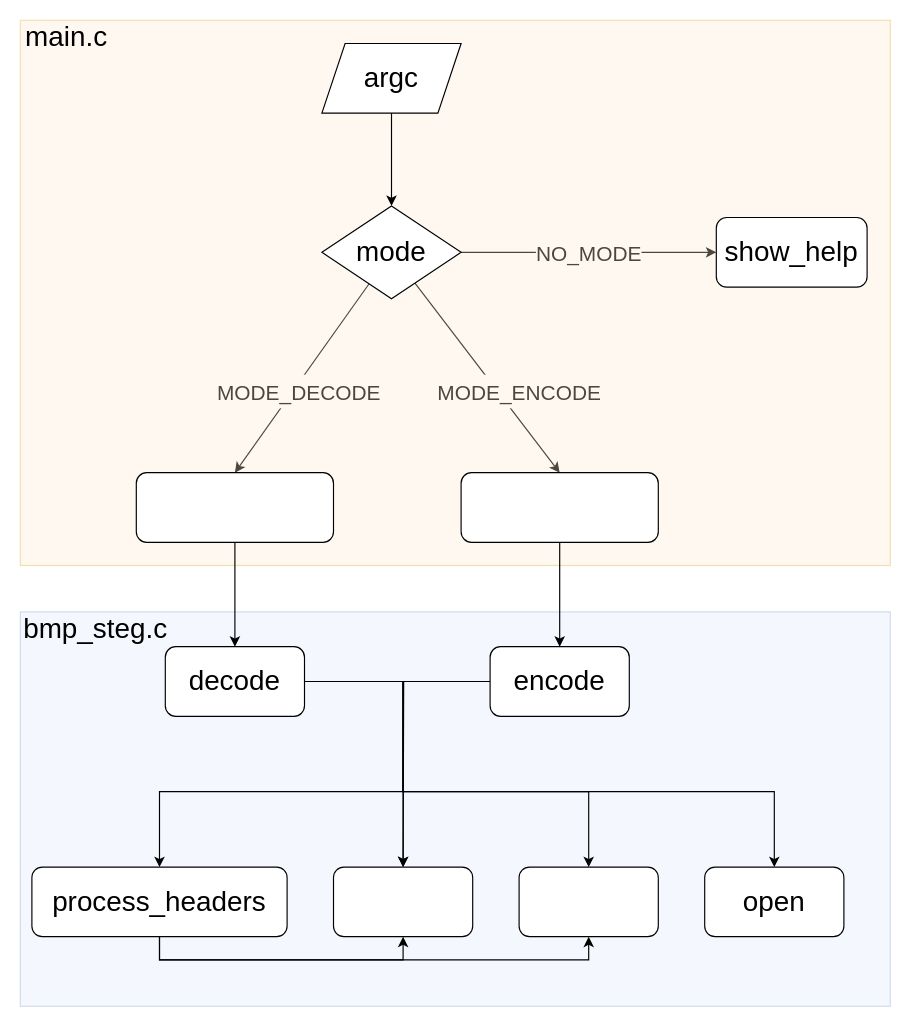
Some shapes in this 911 by 1027 pixel diagram are drawn without their labels. Each missing label, with the centre of its shape:
decode_mode: (x=234, y=507)
encode_mode: (x=559, y=507)
read: (x=402, y=901)
write: (x=588, y=901)
